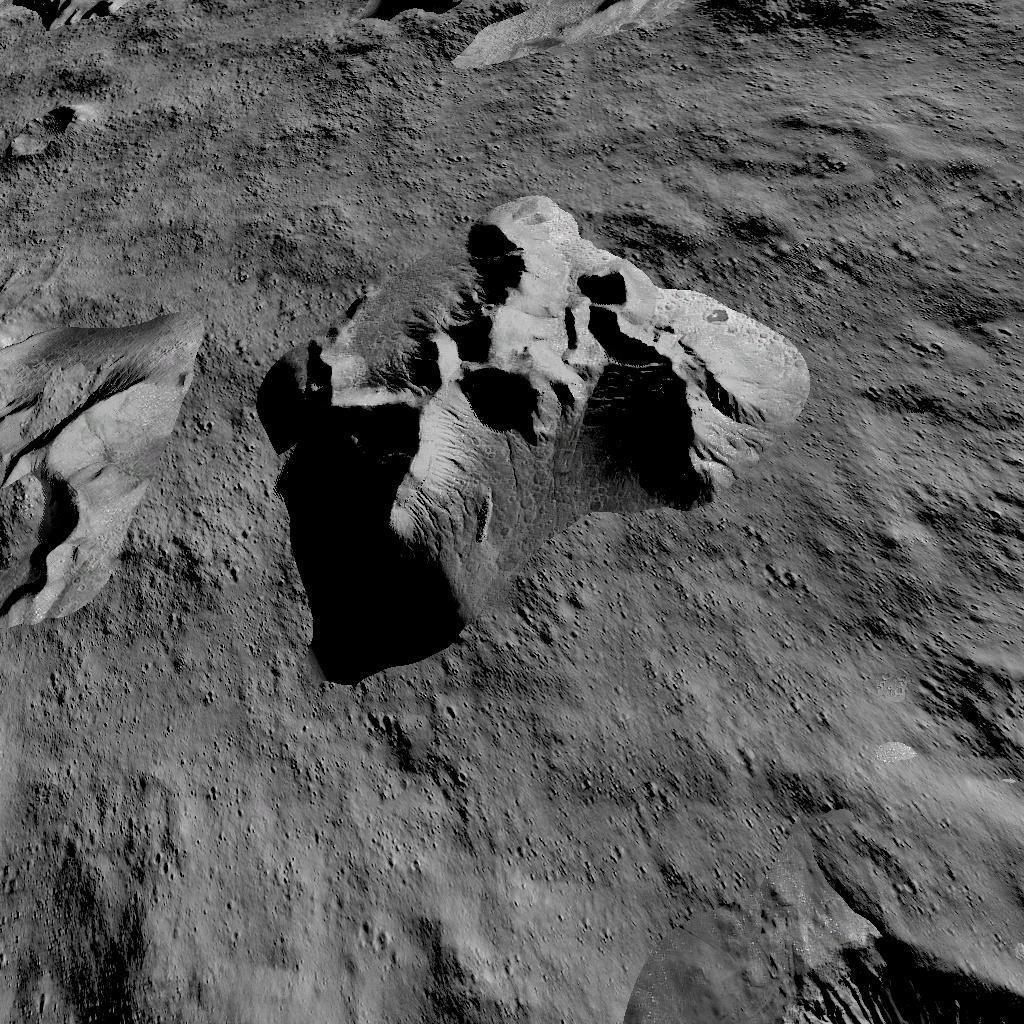Boulders: (249, 190, 809, 684), (3, 286, 201, 622), (354, 0, 676, 75), (0, 2, 122, 45)
Crater: (643, 894, 1024, 1024), (931, 650, 1024, 786), (0, 90, 100, 170), (78, 976, 146, 1024)
Plan surface: (174, 699, 620, 1024), (831, 182, 1024, 598), (700, 0, 1024, 158), (646, 696, 918, 860), (4, 644, 148, 932), (144, 2, 345, 164)
